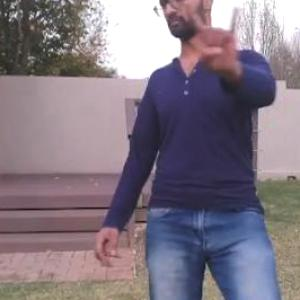takeoff-hand: (179, 0, 246, 88)
